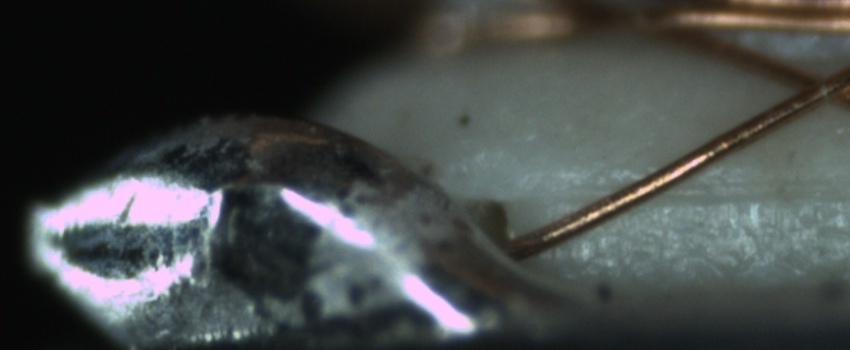CL: (779, 56, 849, 113)
DL: (557, 157, 849, 225)
